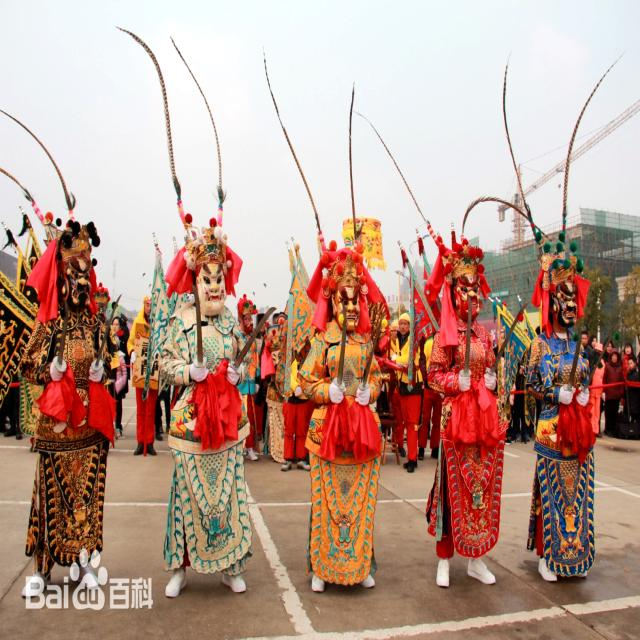Reeves-s Pheasant: (120, 29, 183, 215), (264, 53, 321, 233), (563, 60, 617, 231), (171, 36, 225, 203), (503, 62, 547, 249), (358, 113, 429, 224), (0, 109, 74, 215), (463, 196, 528, 233), (8, 175, 43, 220), (348, 82, 356, 231), (560, 226, 565, 241)
